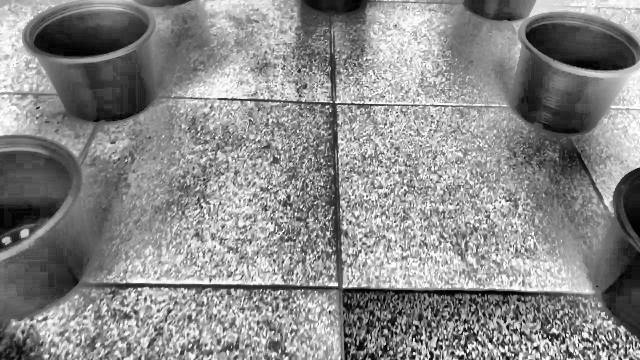pot: (0, 136, 92, 320), (22, 0, 157, 125), (510, 12, 640, 136)
